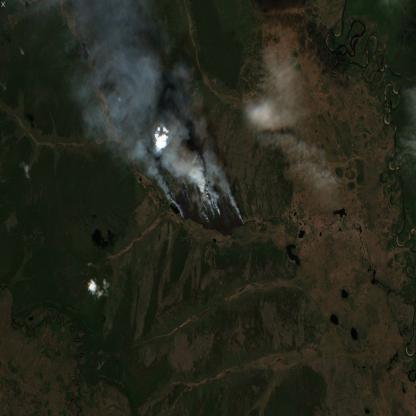fire: (170, 182, 246, 230)
